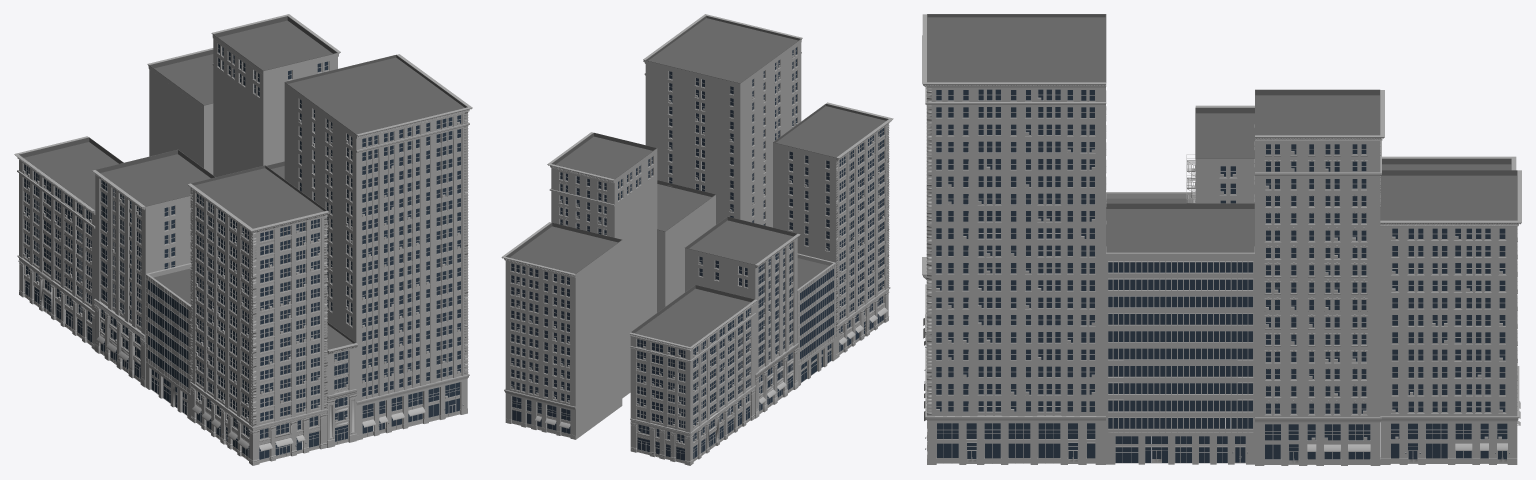
The model's file is block_01_low.glb.
3 renders of one model, left to right at view 1: azimuth 30°, elevation 25°; view 2: azimuth 150°, elevation 25°; view 3: azimuth 270°, elevation 25°, orthographic. The views are drawn at different scales.
Parts seen in each view (by area): view 1: block_01_low; view 2: block_01_low; view 3: block_01_low.
Boxes of the visible parts, left/top/right/bottom form: block_01_low: left=14, top=14, right=472, bottom=465; block_01_low: left=501, top=14, right=893, bottom=465; block_01_low: left=922, top=14, right=1521, bottom=465.
Bounding box in the file's own units: 135 × 177 × 251.
